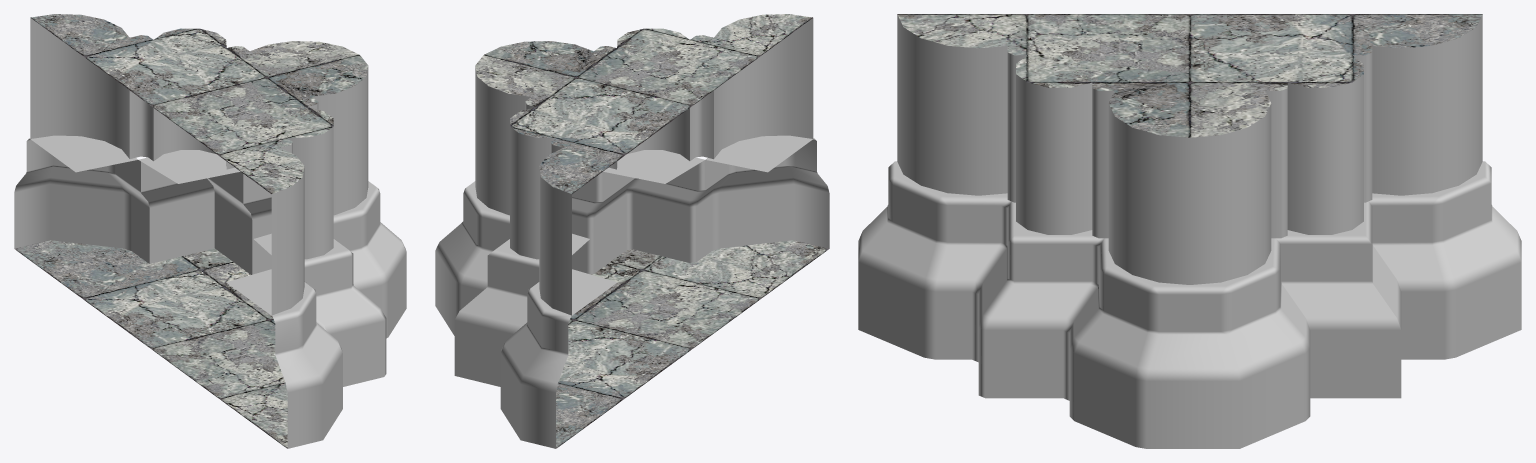
The model's file is Säulenfuß_2m-half.gltf.
The picture shows the model from 3 angles, left to right: view 1: azimuth 30°, elevation 25°; view 2: azimuth 150°, elevation 25°; view 3: azimuth 270°, elevation 25°; orthographic projection. The views are drawn at different scales.
Visible parts, largest first — view 1: Säulenfuß_2m-half; view 2: Säulenfuß_2m-half; view 3: Säulenfuß_2m-half.
Boxes of the visible parts, x1,y1,x2,y2 form: Säulenfuß_2m-half: (14, 14, 406, 448); Säulenfuß_2m-half: (435, 14, 829, 448); Säulenfuß_2m-half: (858, 14, 1521, 448).
Size of the model in its own units: 1.02 by 1 by 2.04.
